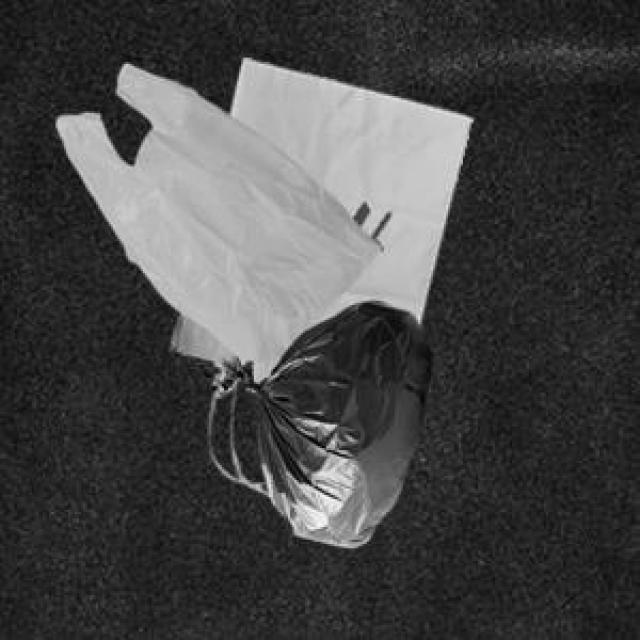miscellaneous trash: (224, 297, 429, 544)
paper: (166, 53, 469, 489)
